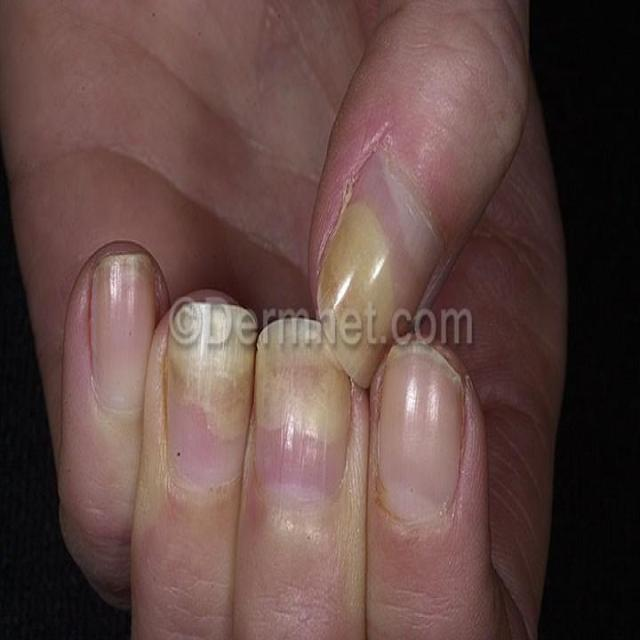Nail: (315, 155, 440, 383), (254, 319, 352, 507), (165, 301, 256, 488), (378, 348, 465, 523), (91, 255, 156, 414)
